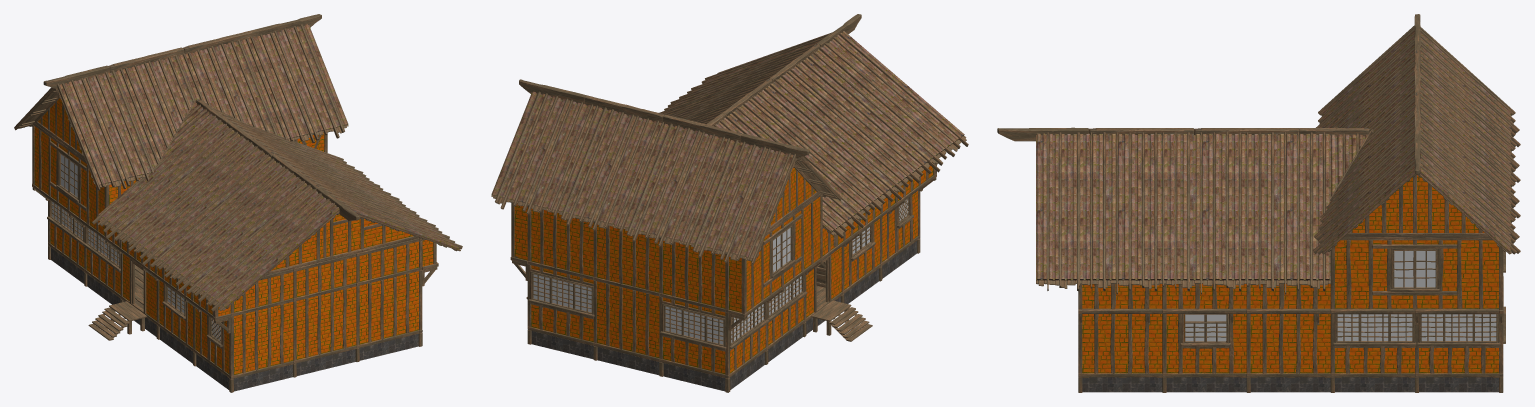
File: SM_House_04.fbx
The picture shows the model from 3 angles, left to right: view 1: azimuth 30°, elevation 25°; view 2: azimuth 150°, elevation 25°; view 3: azimuth 270°, elevation 25°; orthographic projection. The views are drawn at different scales.
Visible parts, largest first — view 1: SM_House_04_LOD0; view 2: SM_House_04_LOD0; view 3: SM_House_04_LOD0.
Boxes of the visible parts, bbox=[...] form: SM_House_04_LOD0: bbox=[14, 14, 462, 392]; SM_House_04_LOD0: bbox=[491, 14, 968, 392]; SM_House_04_LOD0: bbox=[997, 14, 1520, 392].
Bounding box in the file's own units: 1763 × 2488 × 1301.
